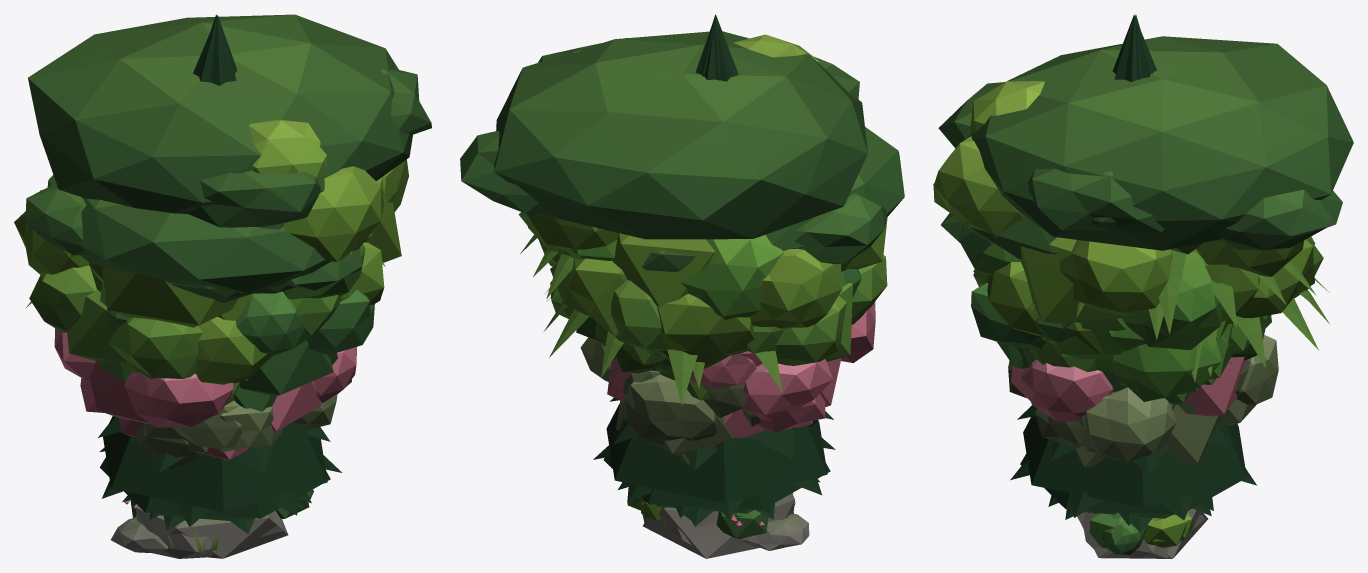
Rendered from peyzaj.glb.
The picture shows the model from 3 angles, left to right: view 1: azimuth 30°, elevation 25°; view 2: azimuth 150°, elevation 25°; view 3: azimuth 270°, elevation 25°; orthographic projection.
Visible parts, largest first — view 1: fistikcami_1_uzak, cinar_3, fistikcami_2_uzak, koknar_3_uzak, ihlamur, fistikcami_1, erguvan, cinar_2, cinar_3_uzak, fistikcami_2, zeytin, koknar_3 (+8 smaller); view 2: fistikcami_1_uzak, cinar_3, koknar_3_uzak, ihlamur, erguvan, cinar_1, zeytin, fistikcami_2, cinar_3_uzak, fistikcami_1, koknar_3, fistikcami_2_uzak (+10 smaller); view 3: fistikcami_1_uzak, cinar_3, fistikcami_1, cinar_1, koknar_3_uzak, zeytin, koknar_3, cinar_3_uzak, erguvan, zeytin_uzak, cinar_2, cinar_1_uzak (+16 smaller).
Part boxes in pixels (left/top/right/bottom): fistikcami_1_uzak: left=28, top=14, right=412, bottom=213; cinar_3: left=14, top=119, right=408, bottom=384; fistikcami_2_uzak: left=79, top=190, right=383, bottom=293; koknar_3_uzak: left=103, top=14, right=327, bottom=511; ihlamur: left=29, top=265, right=342, bottom=379; fistikcami_1: left=187, top=69, right=431, bottom=229; erguvan: left=54, top=328, right=356, bottom=427; cinar_2: left=100, top=283, right=374, bottom=365; cinar_3_uzak: left=89, top=178, right=401, bottom=327; fistikcami_2: left=25, top=183, right=361, bottom=302; zeytin: left=134, top=379, right=351, bottom=468; koknar_3: left=98, top=15, right=341, bottom=526; fistikcami_1_uzak: left=494, top=31, right=867, bottom=239; cinar_3: left=526, top=34, right=853, bottom=373; koknar_3_uzak: left=606, top=15, right=827, bottom=503; ihlamur: left=600, top=255, right=887, bottom=365; erguvan: left=689, top=301, right=875, bottom=432; cinar_1: left=518, top=212, right=783, bottom=373; zeytin: left=580, top=337, right=817, bottom=445; fistikcami_2: left=642, top=193, right=887, bottom=272; cinar_3_uzak: left=613, top=217, right=887, bottom=307; fistikcami_1: left=460, top=38, right=859, bottom=215; koknar_3: left=593, top=14, right=835, bottom=519; fistikcami_2_uzak: left=765, top=127, right=904, bottom=250; fistikcami_1_uzak: left=967, top=36, right=1353, bottom=250; cinar_3: left=933, top=81, right=1315, bottom=354; fistikcami_1: left=938, top=82, right=1342, bottom=250; cinar_1: left=961, top=228, right=1271, bottom=401; koknar_3_uzak: left=1023, top=14, right=1246, bottom=508; zeytin: left=1008, top=335, right=1278, bottom=462; koknar_3: left=1010, top=14, right=1256, bottom=519; cinar_3_uzak: left=1020, top=237, right=1228, bottom=341; erguvan: left=1021, top=359, right=1113, bottom=421; zeytin_uzak: left=1076, top=391, right=1256, bottom=467; cinar_2: left=971, top=283, right=1081, bottom=369; cinar_1_uzak: left=1054, top=315, right=1270, bottom=379.
Size of the model in its own units: 7.87 by 10.74 by 7.91.
